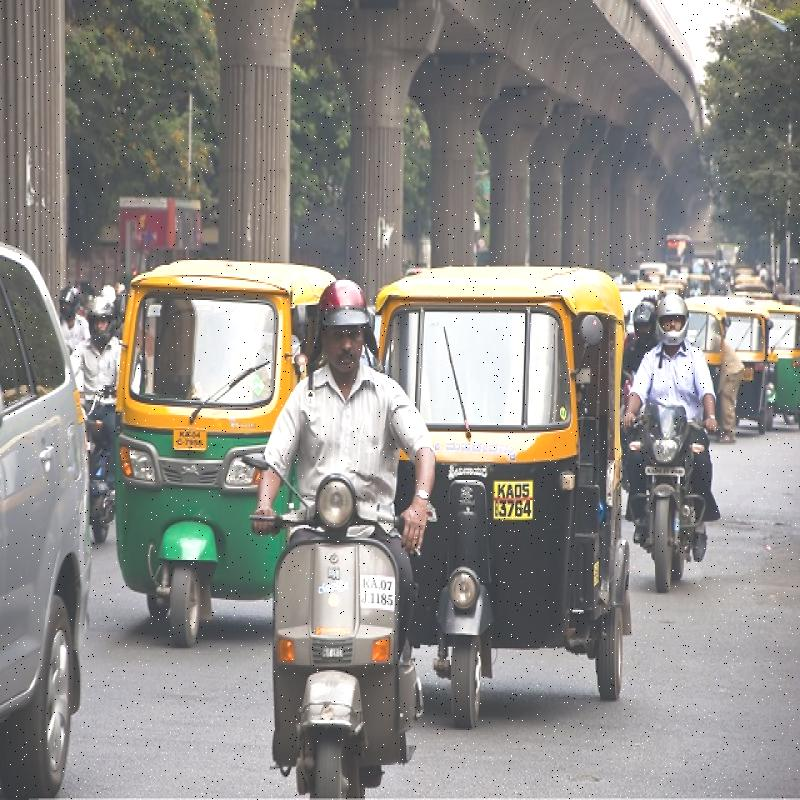auto: (374, 255, 625, 693), (91, 244, 339, 620), (728, 301, 776, 429), (774, 285, 800, 412)
bike: (286, 476, 396, 800), (627, 399, 701, 567)
